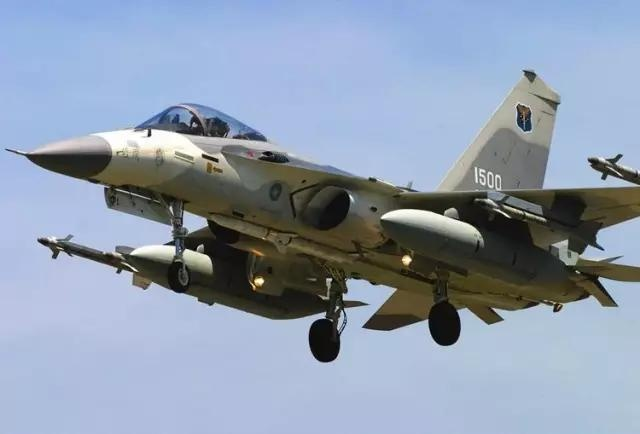airplane: (6, 66, 640, 366)
